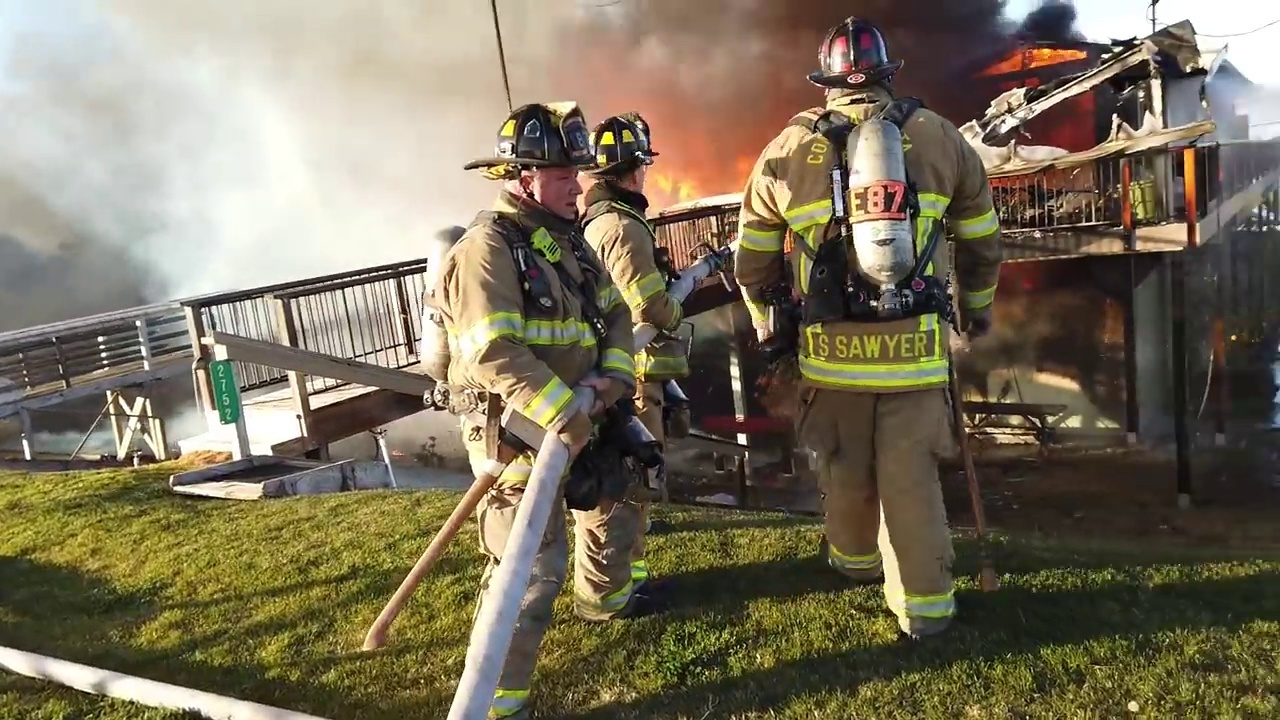fire: (977, 42, 1086, 75), (651, 154, 716, 208), (387, 440, 418, 463)
smoke: (2, 5, 412, 261), (551, 1, 1087, 95), (1001, 268, 1115, 415), (416, 5, 551, 96), (10, 405, 210, 453), (416, 101, 505, 205), (423, 412, 465, 465)
